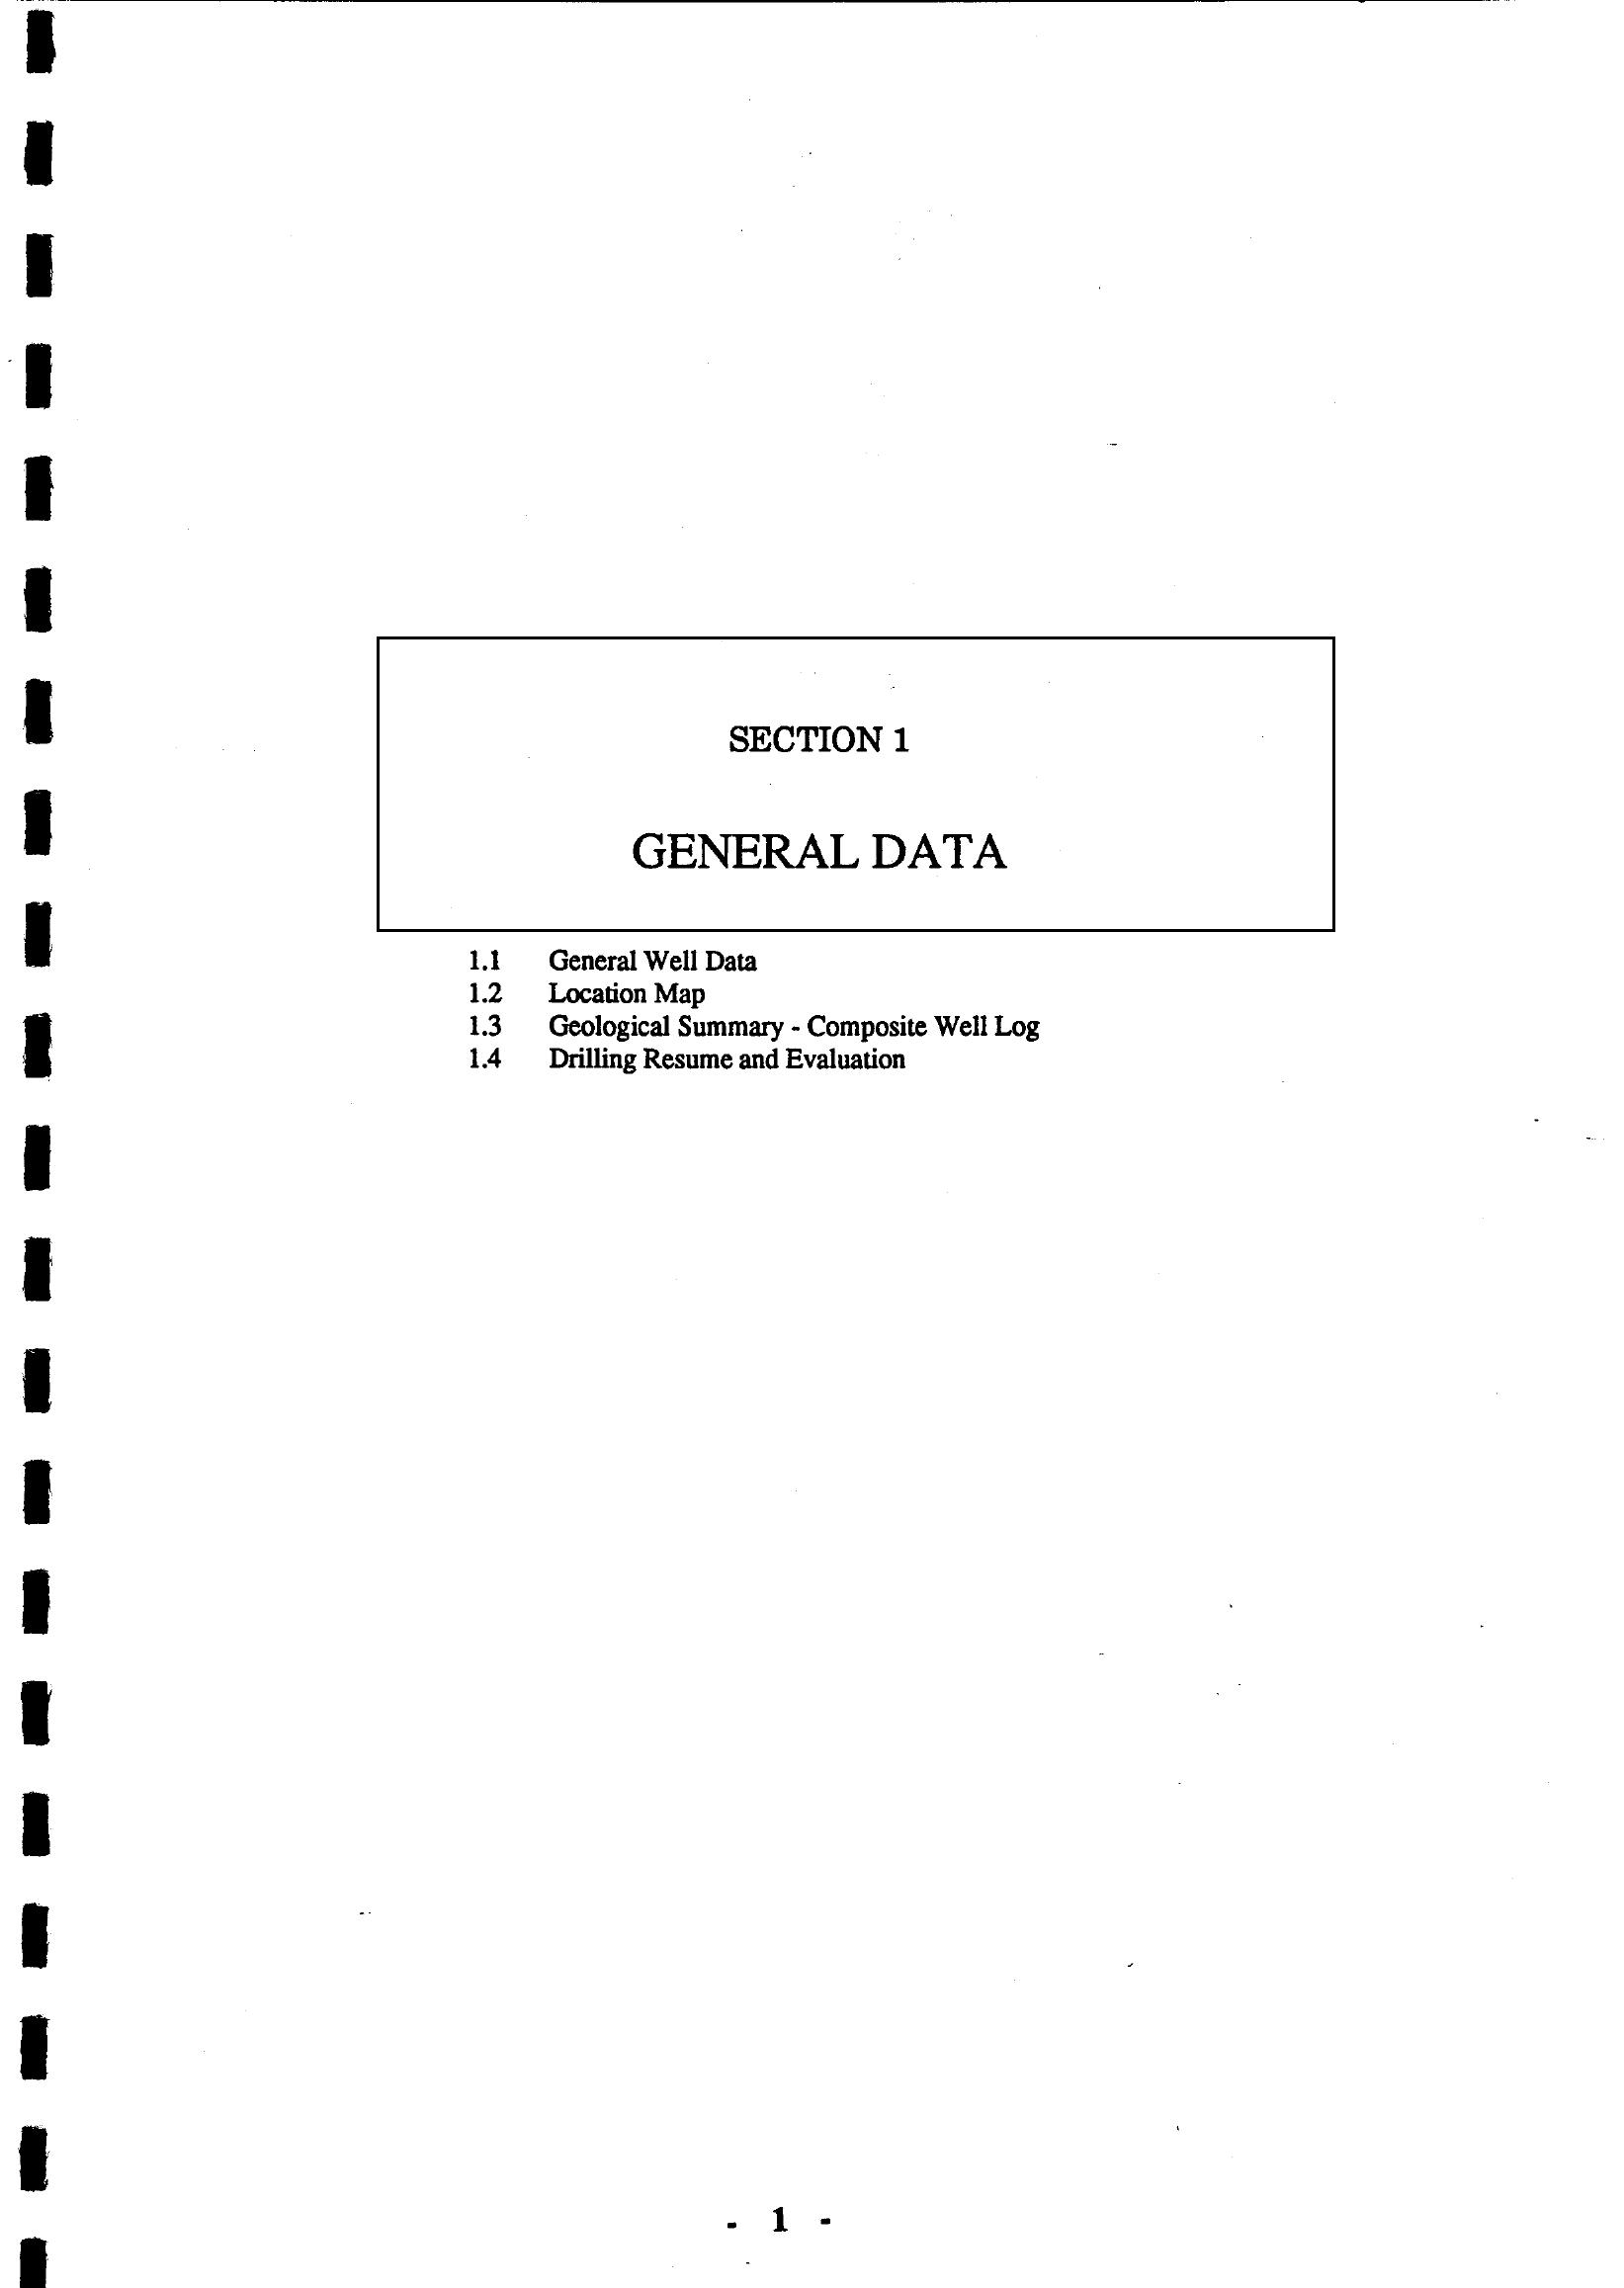text: (308, 590, 1392, 1142)
